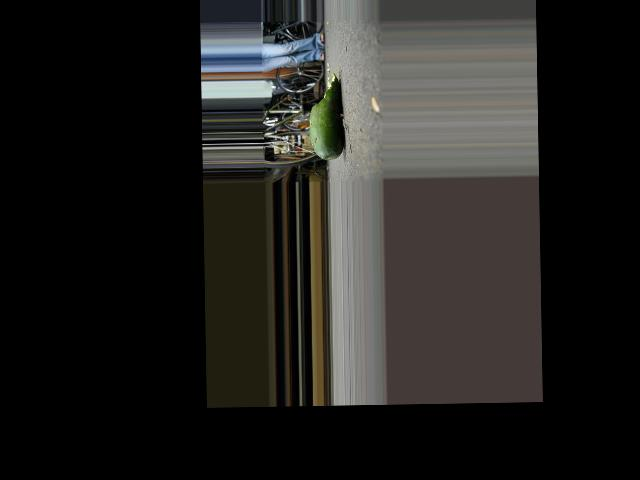cucumber: (308, 71, 344, 159)
